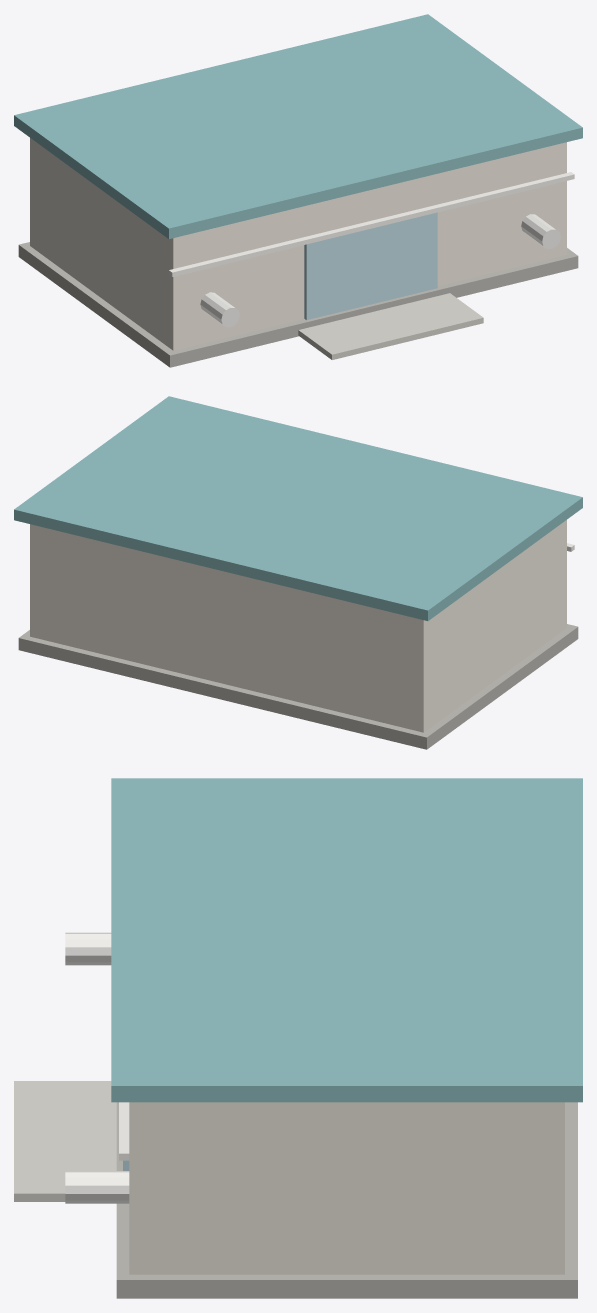
Rendered from community_center.glb.
3 views of the same model, one above another, from view 1: azimuth 30°, elevation 25°; view 2: azimuth 150°, elevation 25°; view 3: azimuth 270°, elevation 25° (orthographic). The views are drawn at different scales.
Parts seen in each view (by area): view 1: p001, p000, p003, p002, p004, p007, p005, p006; view 2: p001, p000, p002; view 3: p001, p000, p002, p004, p006, p005.
Boxes of the visible parts, <box> form: p001: <box>14,14,582,238</box>; p000: <box>30,138,566,350</box>; p003: <box>304,212,437,320</box>; p002: <box>18,242,578,367</box>; p004: <box>298,293,483,359</box>; p007: <box>169,172,574,276</box>; p005: <box>200,292,239,327</box>; p006: <box>521,214,560,248</box>; p001: <box>14,396,582,620</box>; p000: <box>30,520,566,732</box>; p002: <box>18,624,578,749</box>; p001: <box>111,778,582,1102</box>; p000: <box>129,1102,564,1274</box>; p002: <box>116,1102,577,1298</box>; p004: <box>14,1081,116,1201</box>; p006: <box>65,1171,129,1203</box>; p005: <box>65,932,111,965</box>.
Size of the model in its own units: 14.2 by 4.62 by 11.1.
